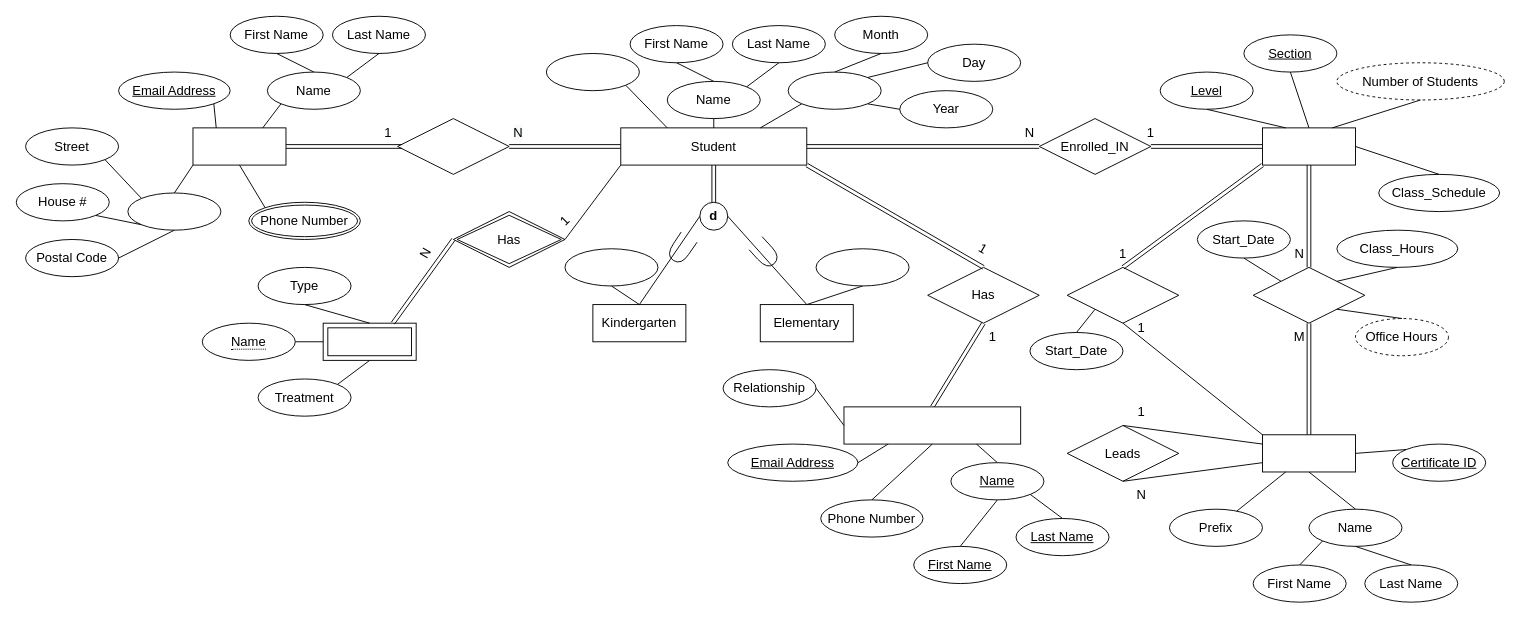
This 1521x618 diagram has some shape labels left out. Here are the shapes that lost their labels. From the top down, the centre of each, then its label:
At (x=592, y=72): "ID Number".
At (x=834, y=90): "DOB".
At (x=239, y=146): "Parent".
At (x=453, y=146): "Registers".
At (x=1308, y=146): "Grade".
At (x=174, y=211): "Address".
At (x=611, y=267): "Shift".
At (x=862, y=267): "Division".
At (x=1122, y=294): "Lead_BY".
At (x=1308, y=294): "Teaches".
At (x=369, y=341): "Allergy".
At (x=932, y=425): "Emergency Contact".
At (x=1308, y=453): "Teacher".
